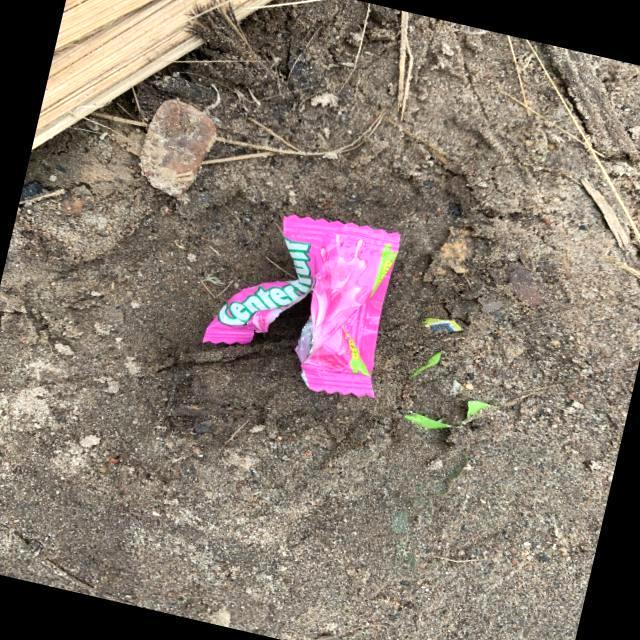packet: (189, 185, 424, 414)
